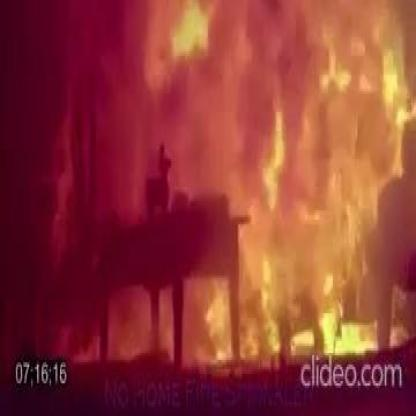fire: (240, 0, 415, 351), (110, 0, 237, 152), (32, 311, 106, 369), (49, 108, 75, 271), (185, 283, 228, 362), (110, 292, 151, 360), (159, 292, 171, 355)
